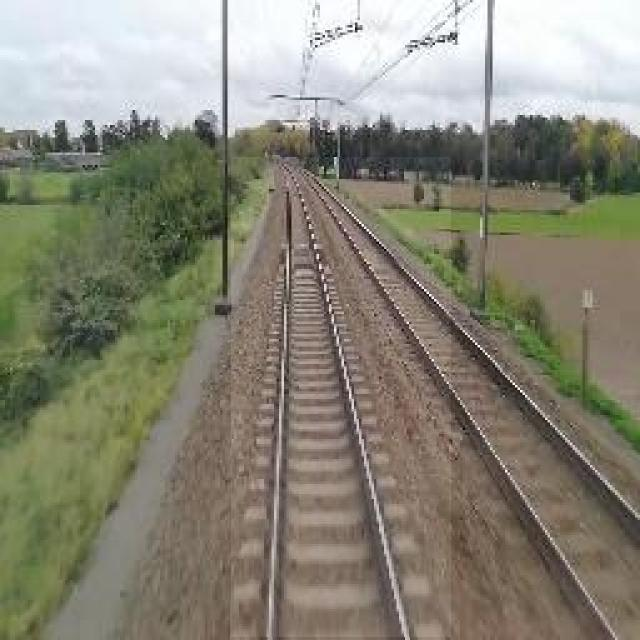rail: (233, 158, 452, 638)
